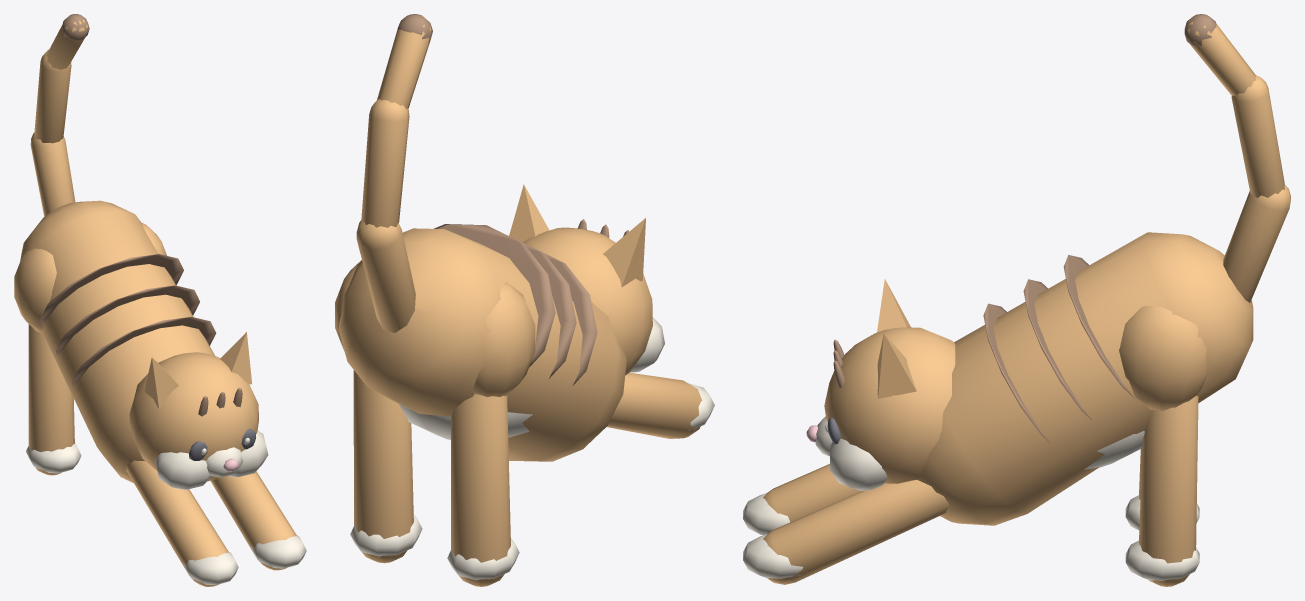
File: companion-animals-and-pet-home-cat-stretching-47af402e__20551.glb
The picture shows the model from 3 angles, left to right: view 1: azimuth 30°, elevation 25°; view 2: azimuth 150°, elevation 25°; view 3: azimuth 270°, elevation 25°; orthographic projection. The views are drawn at different scales.
Parts seen in each view (by area): view 1: cat-stretching; view 2: cat-stretching; view 3: cat-stretching.
Part boxes in pixels (x1=…): cat-stretching: x1=14, y1=14, x2=306, y2=586; cat-stretching: x1=335, y1=14, x2=714, y2=586; cat-stretching: x1=743, y1=14, x2=1290, y2=586.
Bounding box in the file's own units: 0.219 × 0.6476 × 0.5887.
